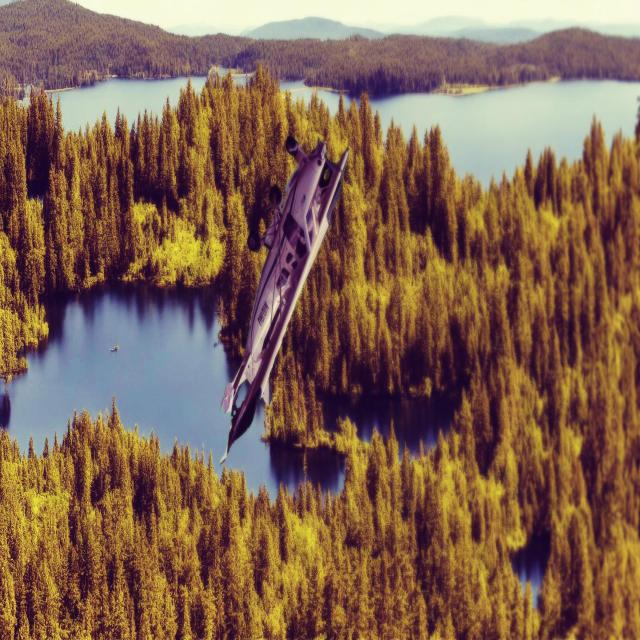airplane: (218, 133, 349, 465)
